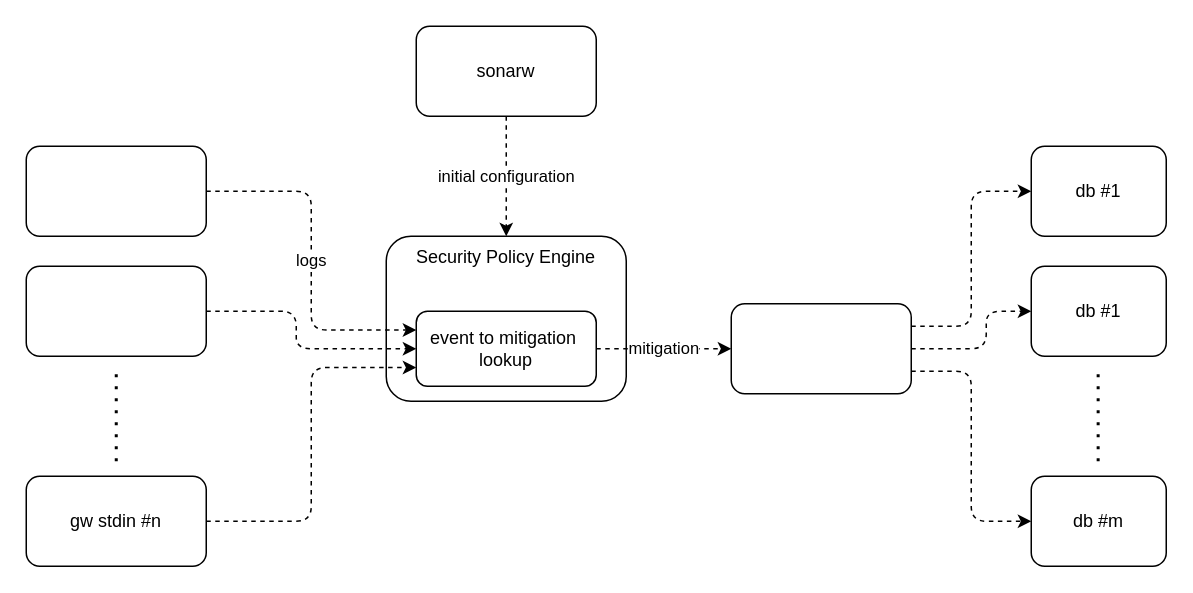
This 1193x593 diagram has some shape labels left out. The centre of each missing label's shape, as x and y in pixels:
connection services: (820,348)
gw stdin #1: (115,190)
gw stdin #2: (115,310)
